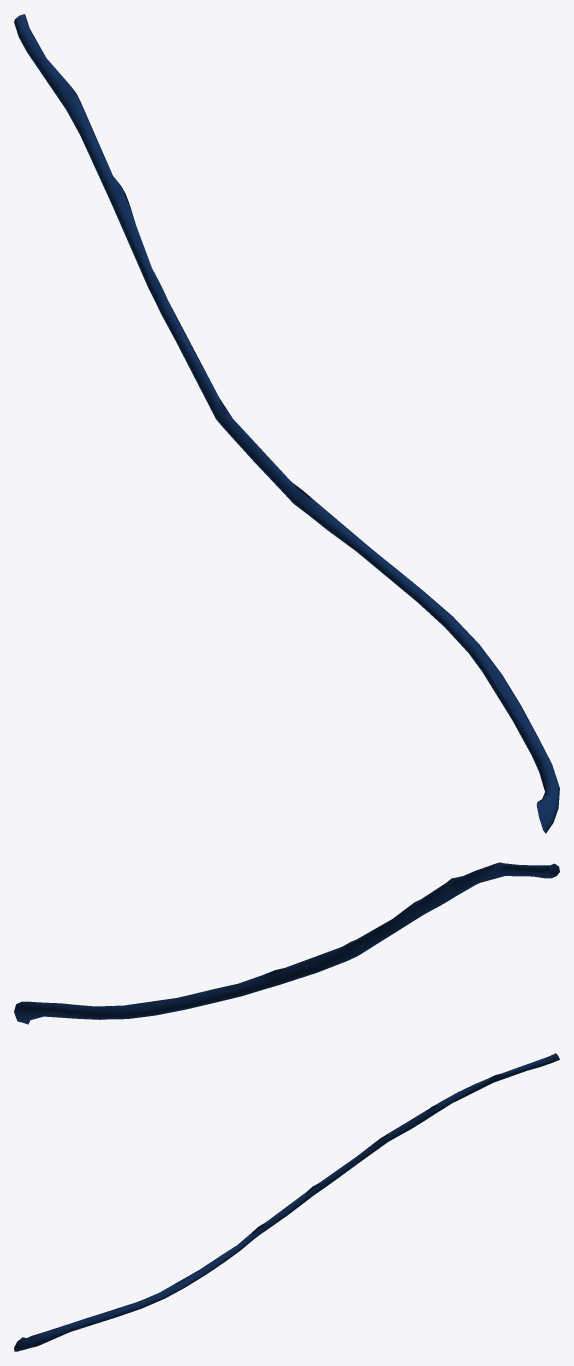
Rendered from vena intercostalis sinistra.fbx.
3 views of the same model, one above another, from view 1: azimuth 30°, elevation 25°; view 2: azimuth 210°, elevation 25°; view 3: azimuth 270°, elevation 25° (orthographic). The views are drawn at different scales.
Visible parts, largest first — view 1: vena intercostalis sinistra, vena intercostalis sinistra low; view 2: vena intercostalis sinistra, vena intercostalis sinistra low; view 3: vena intercostalis sinistra, vena intercostalis sinistra low.
Boxes of the visible parts, bbox=[...] form: vena intercostalis sinistra: bbox=[14, 14, 559, 833]; vena intercostalis sinistra low: bbox=[16, 16, 557, 832]; vena intercostalis sinistra: bbox=[14, 862, 559, 1024]; vena intercostalis sinistra low: bbox=[14, 863, 557, 1021]; vena intercostalis sinistra: bbox=[14, 1053, 559, 1351]; vena intercostalis sinistra low: bbox=[14, 1054, 558, 1351].
Bounding box in the file's own units: 4 × 15.74 × 27.59.
